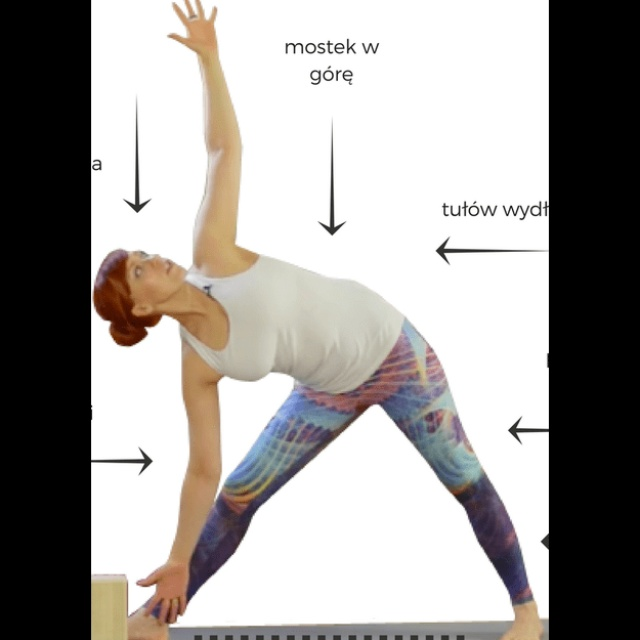Triangle_Pose: (88, 1, 550, 639)
